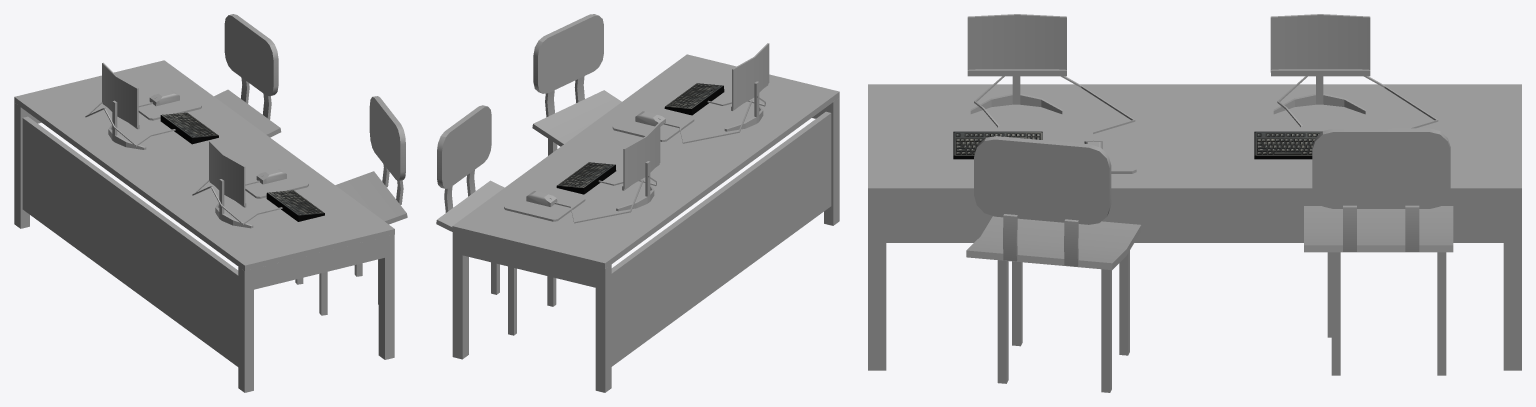
3 views of the same model, side by side, from view 1: azimuth 30°, elevation 25°; view 2: azimuth 150°, elevation 25°; view 3: azimuth 270°, elevation 25° (orthographic). The views are drawn at different scales.
Visible parts, largest first — view 1: Cube.572, Cube.349, Cube.348, backksit (×2), monitor (×2), sit (×2), Cube.347, mouse_pad, mouse_pad1, keyboard, keyboard1, monitor_downside (×2) (+1 smaller); view 2: Cube.572, Cube.349, backksit (×2), Cube.347, sit (×2), monitor (×2), mouse_pad, mouse_pad1, Cube.348, keyboard1, keyboard, monitor_downside (×2) (+1 smaller); view 3: Cube.572, backksit (×2), Cube.349, sit (×2), monitor (×2), Cube.348, Cube.347, pCube1 (×2), pCube2 (×2), monitor_downside (×2), keyboard, mouse_pad1 (+6 smaller).
Boxes of the visible parts, x1,y1,x2,y2 form: Cube.572: (14,60,394,270); Cube.349: (22,116,238,366); Cube.348: (238,234,394,392); backksit (×2): (224,14,405,180); monitor (×2): (102,62,245,205); sit (×2): (214,89,407,224); Cube.347: (14,102,41,228); mouse_pad: (138,85,201,120); mouse_pad1: (245,163,308,198); keyboard: (160,112,218,144); keyboard1: (266,190,324,221); monitor_downside (×2): (108,100,253,228); Cube.572: (452,54,839,268); Cube.349: (611,111,831,366); backksit (×2): (437,14,603,188); Cube.347: (452,232,611,392); sit (×2): (436,90,621,231); monitor (×2): (623,43,769,188); mouse_pad: (504,185,585,221); mouse_pad1: (612,105,694,141); Cube.348: (812,97,839,225); keyboard1: (664,83,724,115); keyboard: (556,162,616,194); monitor_downside (×2): (616,81,763,211); Cube.572: (868,84,1521,196); backksit (×2): (974,128,1450,224); Cube.349: (886,196,1503,242); sit (×2): (966,206,1453,269); monitor (×2): (967,14,1370,72); Cube.348: (868,196,886,370); Cube.347: (1503,196,1521,370); pCube1 (×2): (997,252,1340,383); pCube2 (×2): (1101,252,1446,392); monitor_downside (×2): (970,76,1365,114); keyboard: (1254,131,1321,159); mouse_pad1: (1050,134,1136,173).
Size of the model in its own units: 8.73 by 7.46 by 16.13.
